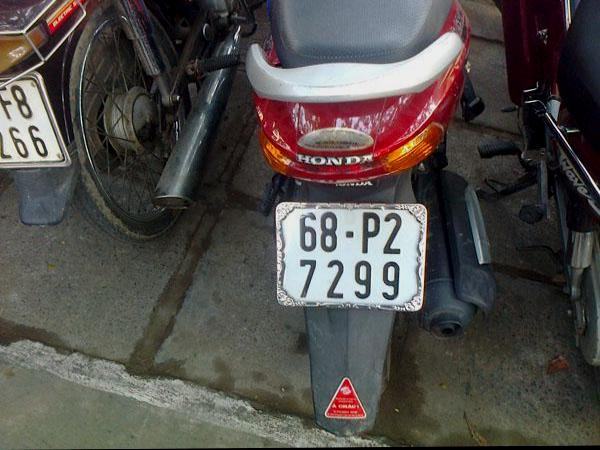License_Plate: (281, 204, 423, 307)
